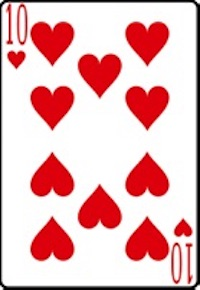TenOfHearts: (1, 1, 200, 287)
